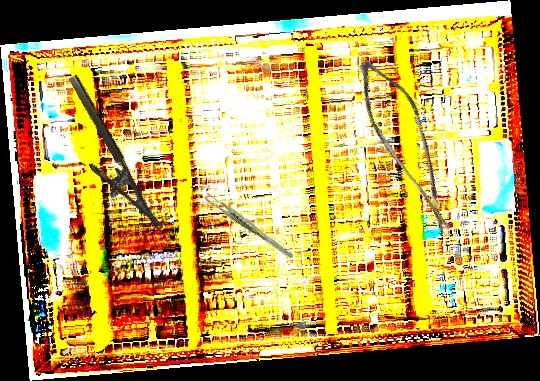Micro Scissor: (330, 52, 489, 236)
Needle Holder: (47, 73, 164, 245)
Tissue Forceps: (201, 178, 296, 274)
